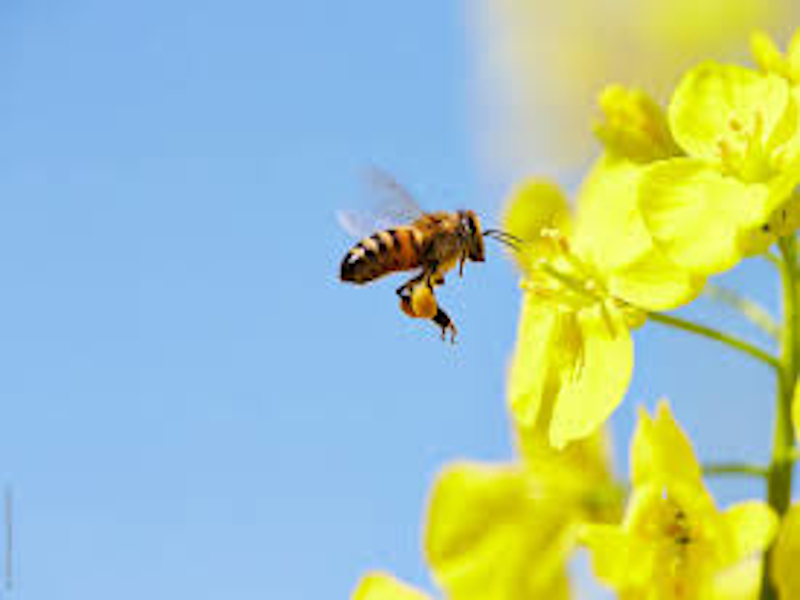abeja: (326, 146, 540, 357)
